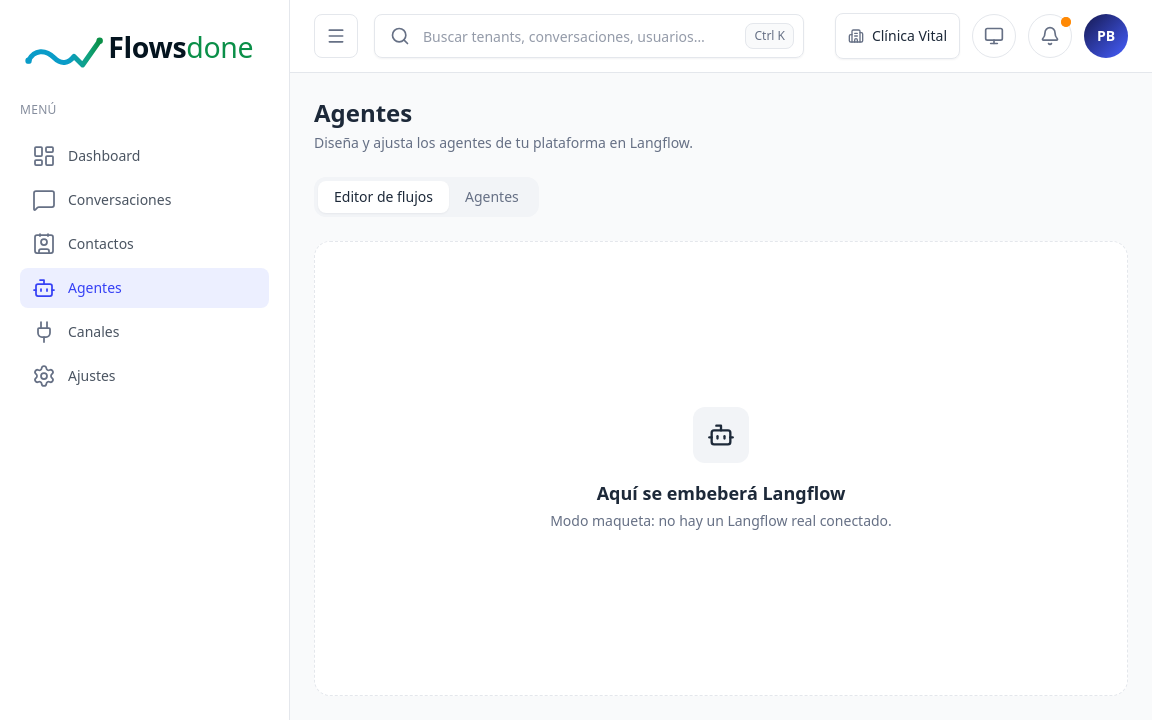
Scenario: menú y acceso por perfil › el botmaster gestiona los agentes de su (único) tenant
The image size is (1152, 720).
Expected: the heading "Agentes" is shown, [314, 96, 412, 129]
Expected: the tab "Editor de flujos" is shown, [318, 181, 449, 213]
Click the tab "Agentes". click: (492, 197)
box: [449, 181, 535, 213]
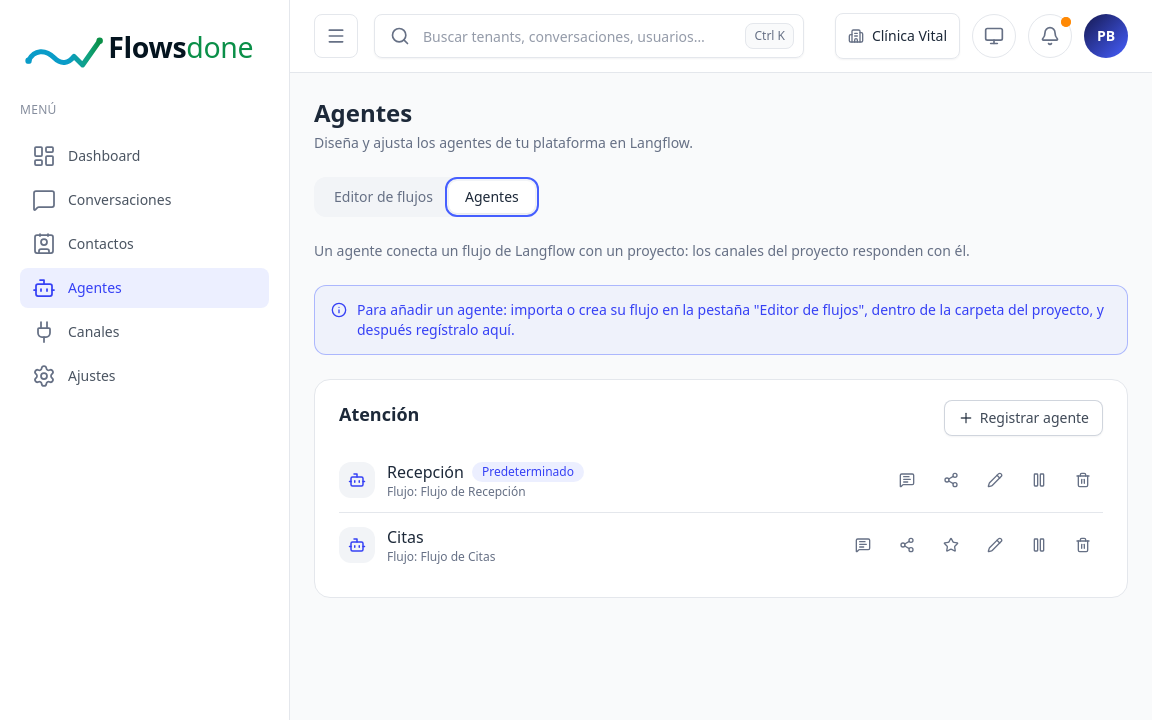
Result: the text "Recepción" is shown at [387, 460, 464, 484]
